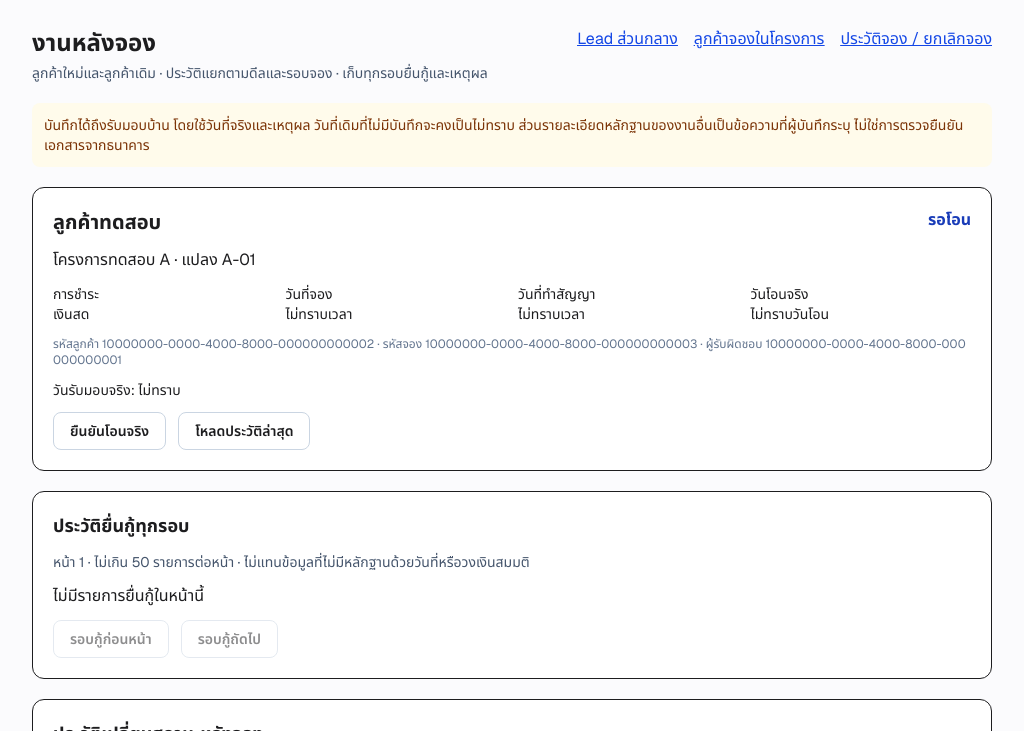
post-booking workspace › confirms the explicit transfer date, then shows day-only history with handover action without another transfer
Click the button "ยืนยันโอนจริง": (110, 431) [53,412,166,450]
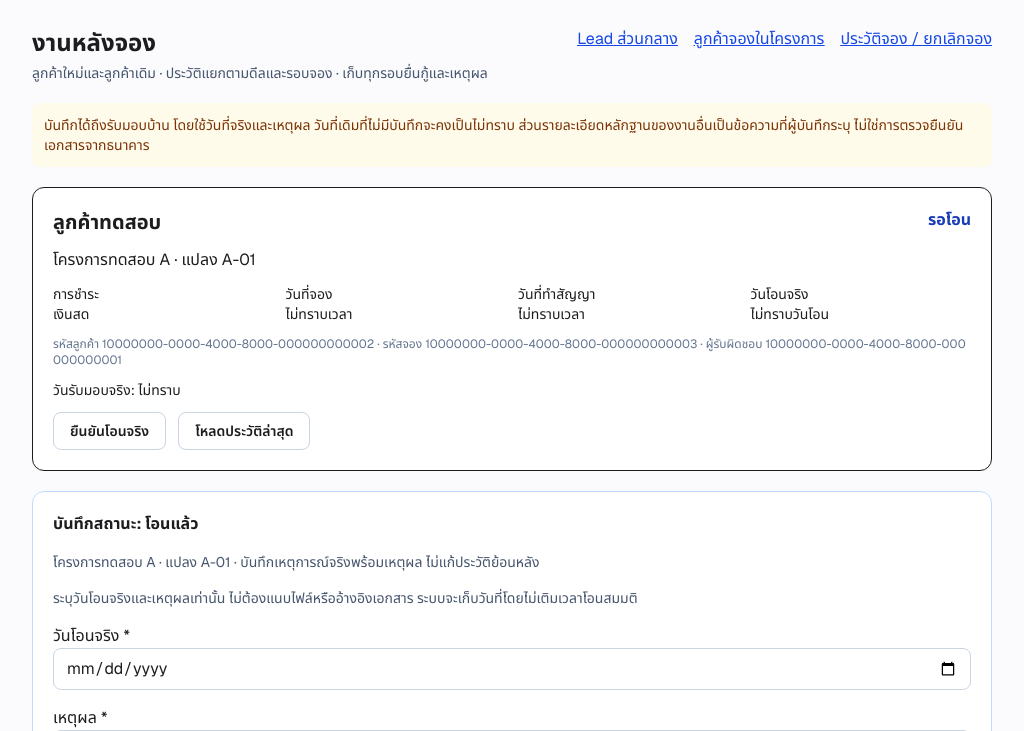
In the date field labelled "วันโอนจริง *": (512, 669) [53,648,971,690], type "2026-09-21"
(page scrolled)
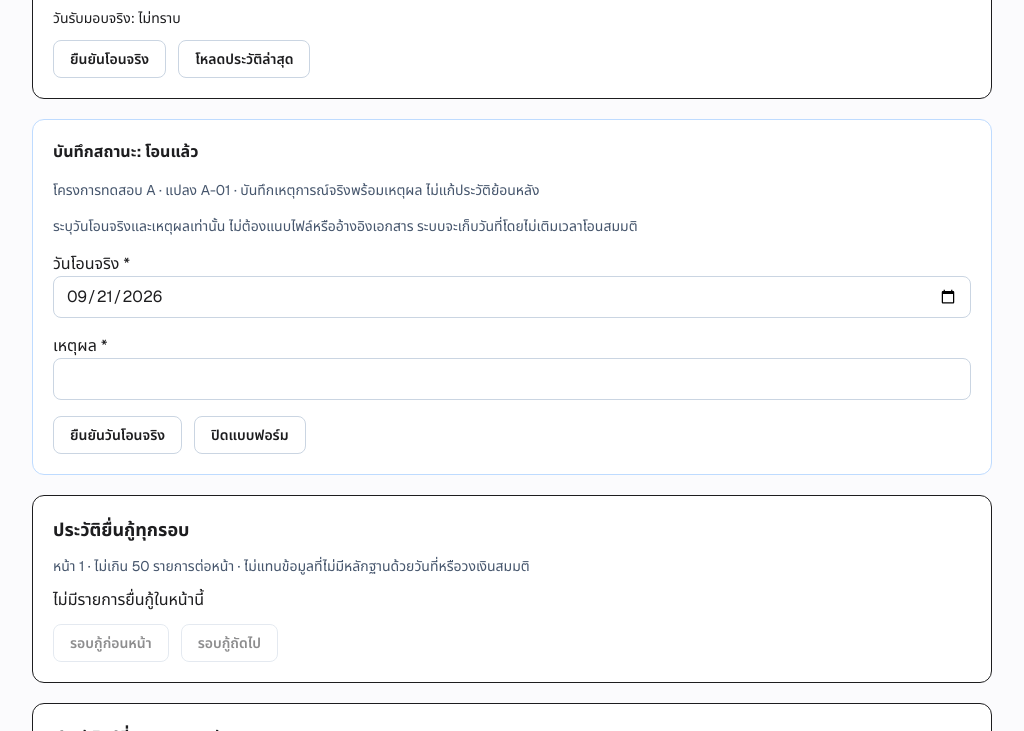
In the field labelled "เหตุผล *": (512, 379) [53,358,971,400], type "โอนกรรมสิทธิ์เสร็จแล้ว"
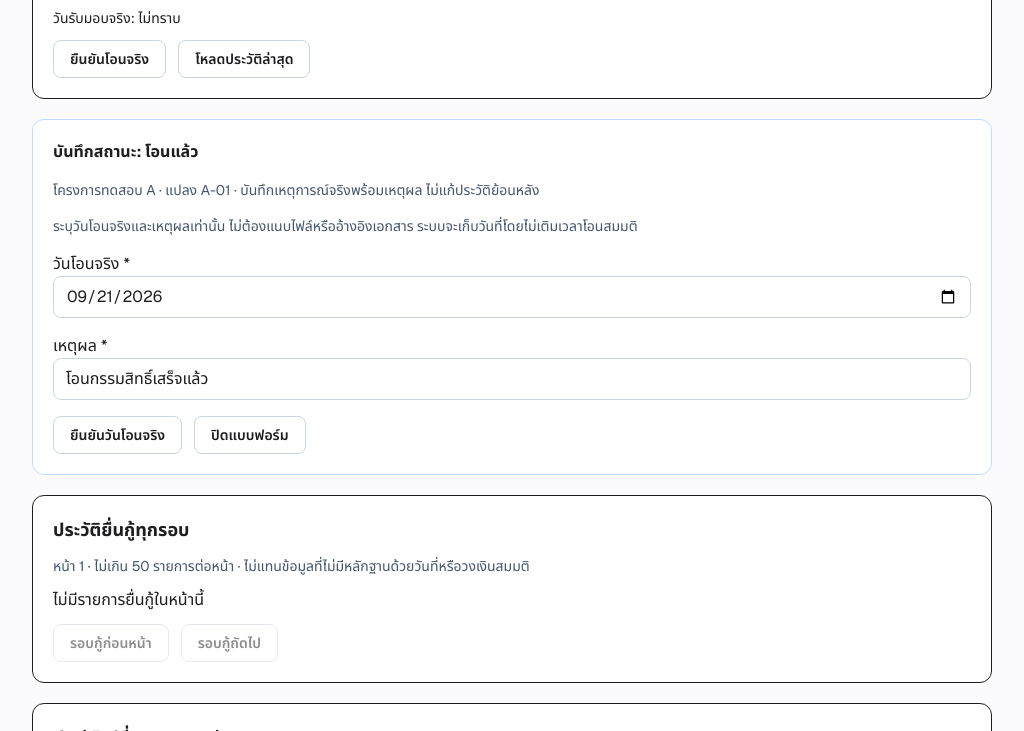
Click the button "ยืนยันวันโอนจริง": (118, 435) [53,416,182,454]
(page scrolled)
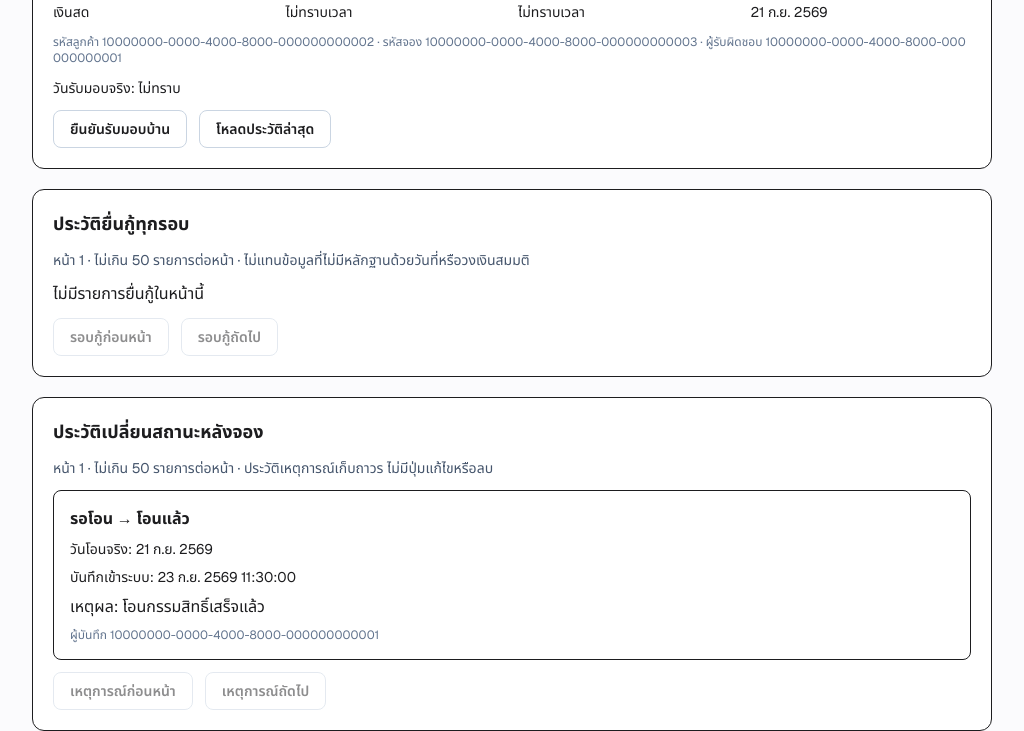
Now the button "ยืนยันโอนจริง" is gone
Now the button "ยืนยันรับมอบบ้าน" is shown, box [53,110,187,148]
